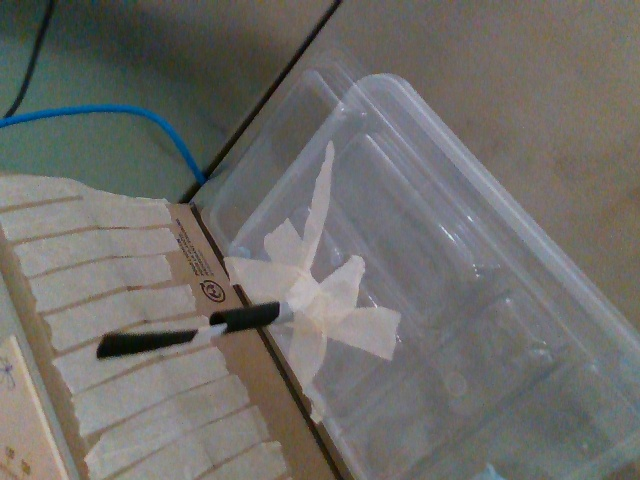test_strip: (95, 325, 222, 356)
